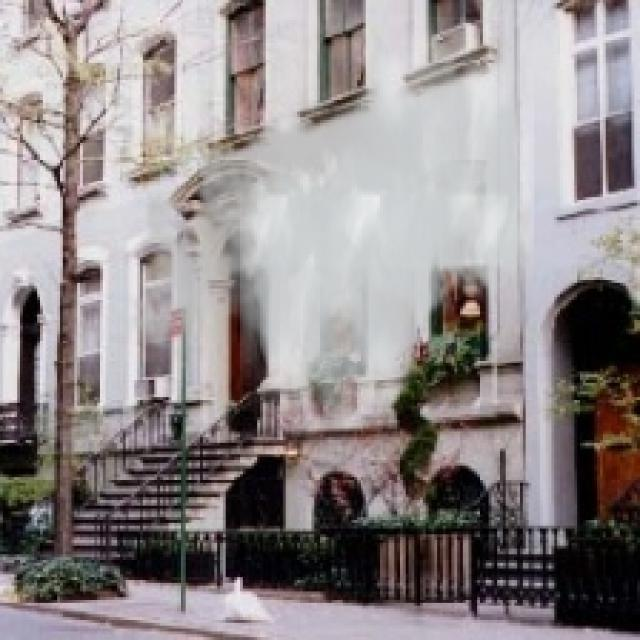Smoke: (117, 17, 534, 443)
